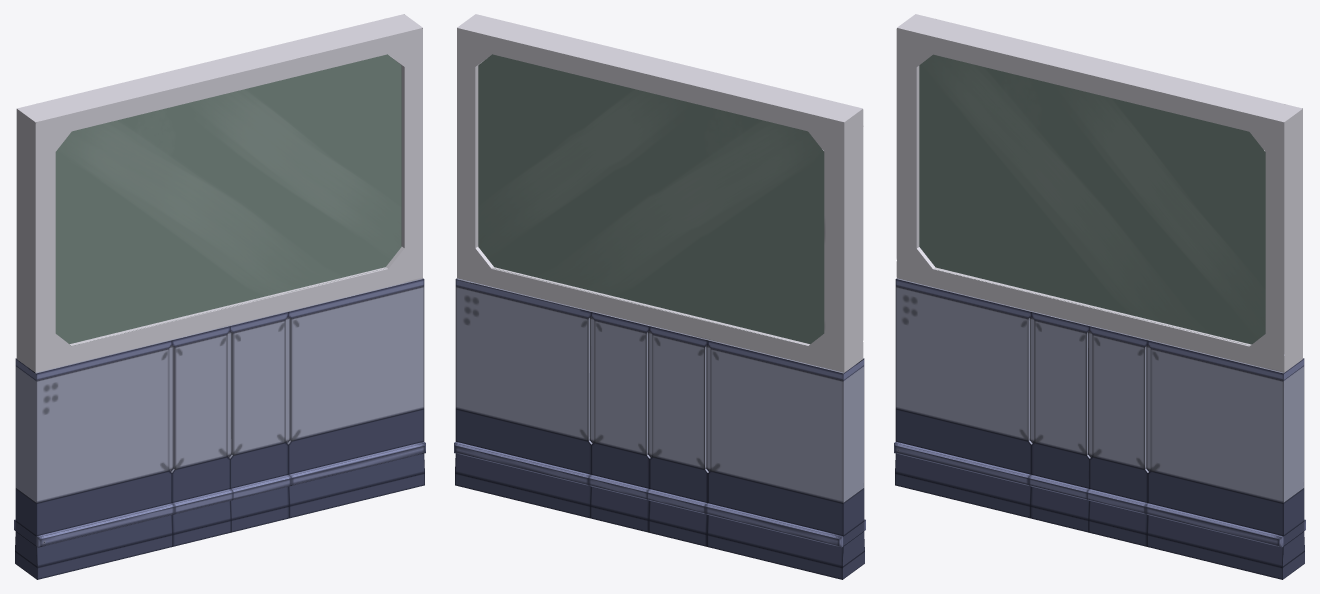
File: Wall+glass chip.fbx
The picture shows the model from 3 angles, left to right: view 1: azimuth 30°, elevation 25°; view 2: azimuth 150°, elevation 25°; view 3: azimuth 330°, elevation 25°; orthographic projection.
Parts seen in each view (by area): view 1: Cube.006, Cube.007; view 2: Cube.006, Cube.007; view 3: Cube.006, Cube.007.
Part boxes in pixels (box(x1,y1,x2,y2)): Cube.006: box(14, 14, 425, 579); Cube.007: box(55, 54, 401, 345); Cube.006: box(454, 14, 865, 579); Cube.007: box(478, 54, 824, 345); Cube.006: box(894, 14, 1305, 579); Cube.007: box(919, 54, 1265, 344).
Size of the model in its own units: 300 by 337 by 34.55.
